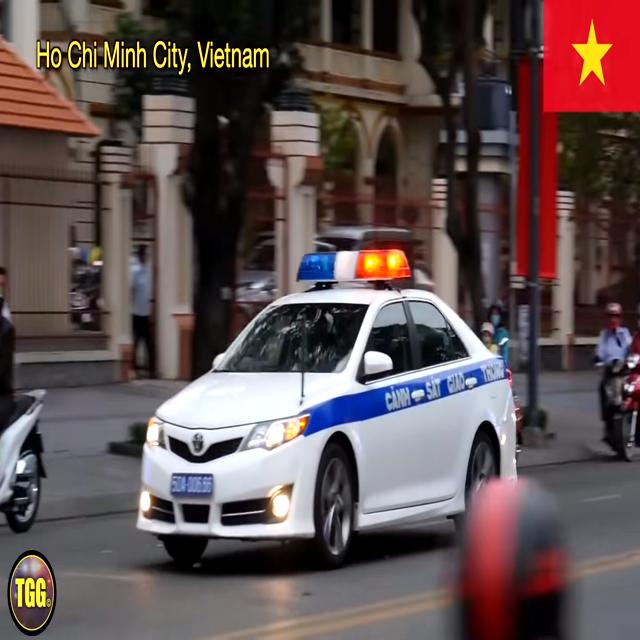emergency-vehicles: (121, 235, 529, 588)
